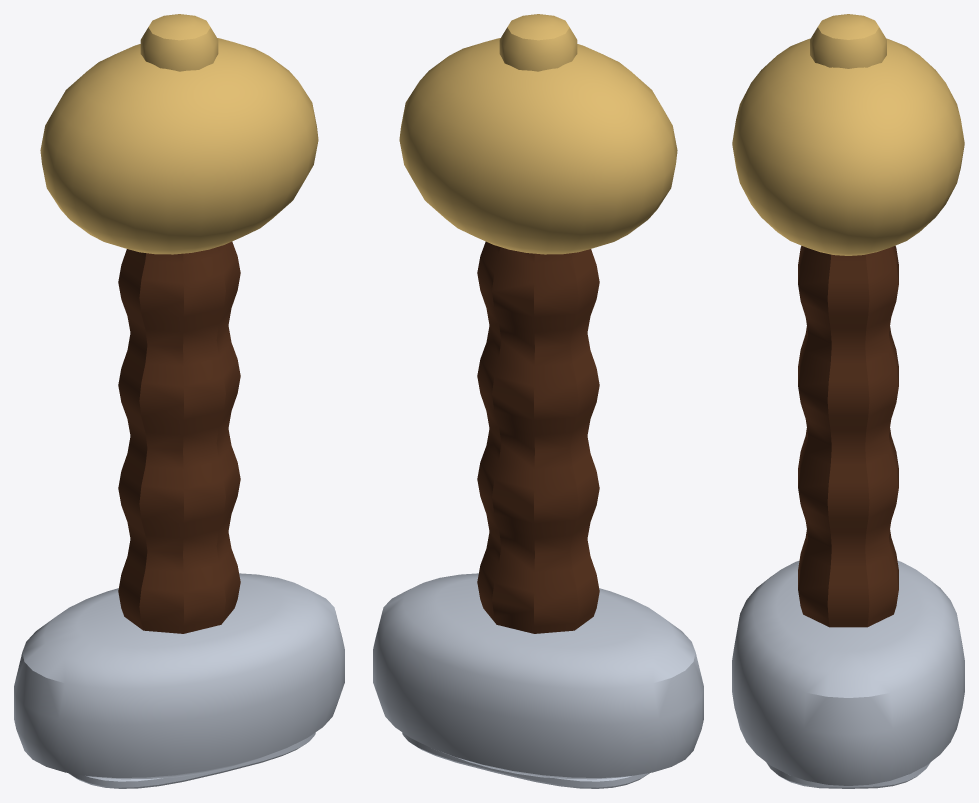
The model's file is GladiusHiltGame.fbx.
3 renders of one model, left to right at view 1: azimuth 30°, elevation 25°; view 2: azimuth 150°, elevation 25°; view 3: azimuth 270°, elevation 25°, orthographic.
Parts seen in each view (by area): view 1: Guard, Pommel, Grip; view 2: Guard, Pommel, Grip; view 3: Pommel, Guard, Grip.
Part boxes in pixels (x1,y1,x2,y2): Guard: [14, 573, 344, 788]; Pommel: [40, 14, 318, 254]; Grip: [118, 241, 240, 633]; Guard: [373, 573, 703, 788]; Pommel: [399, 14, 677, 254]; Grip: [477, 241, 599, 633]; Pommel: [732, 14, 964, 255]; Guard: [732, 561, 964, 788]; Grip: [798, 245, 898, 627].
Bounding box in the file's own units: 0.44 × 0.978 × 0.29.
